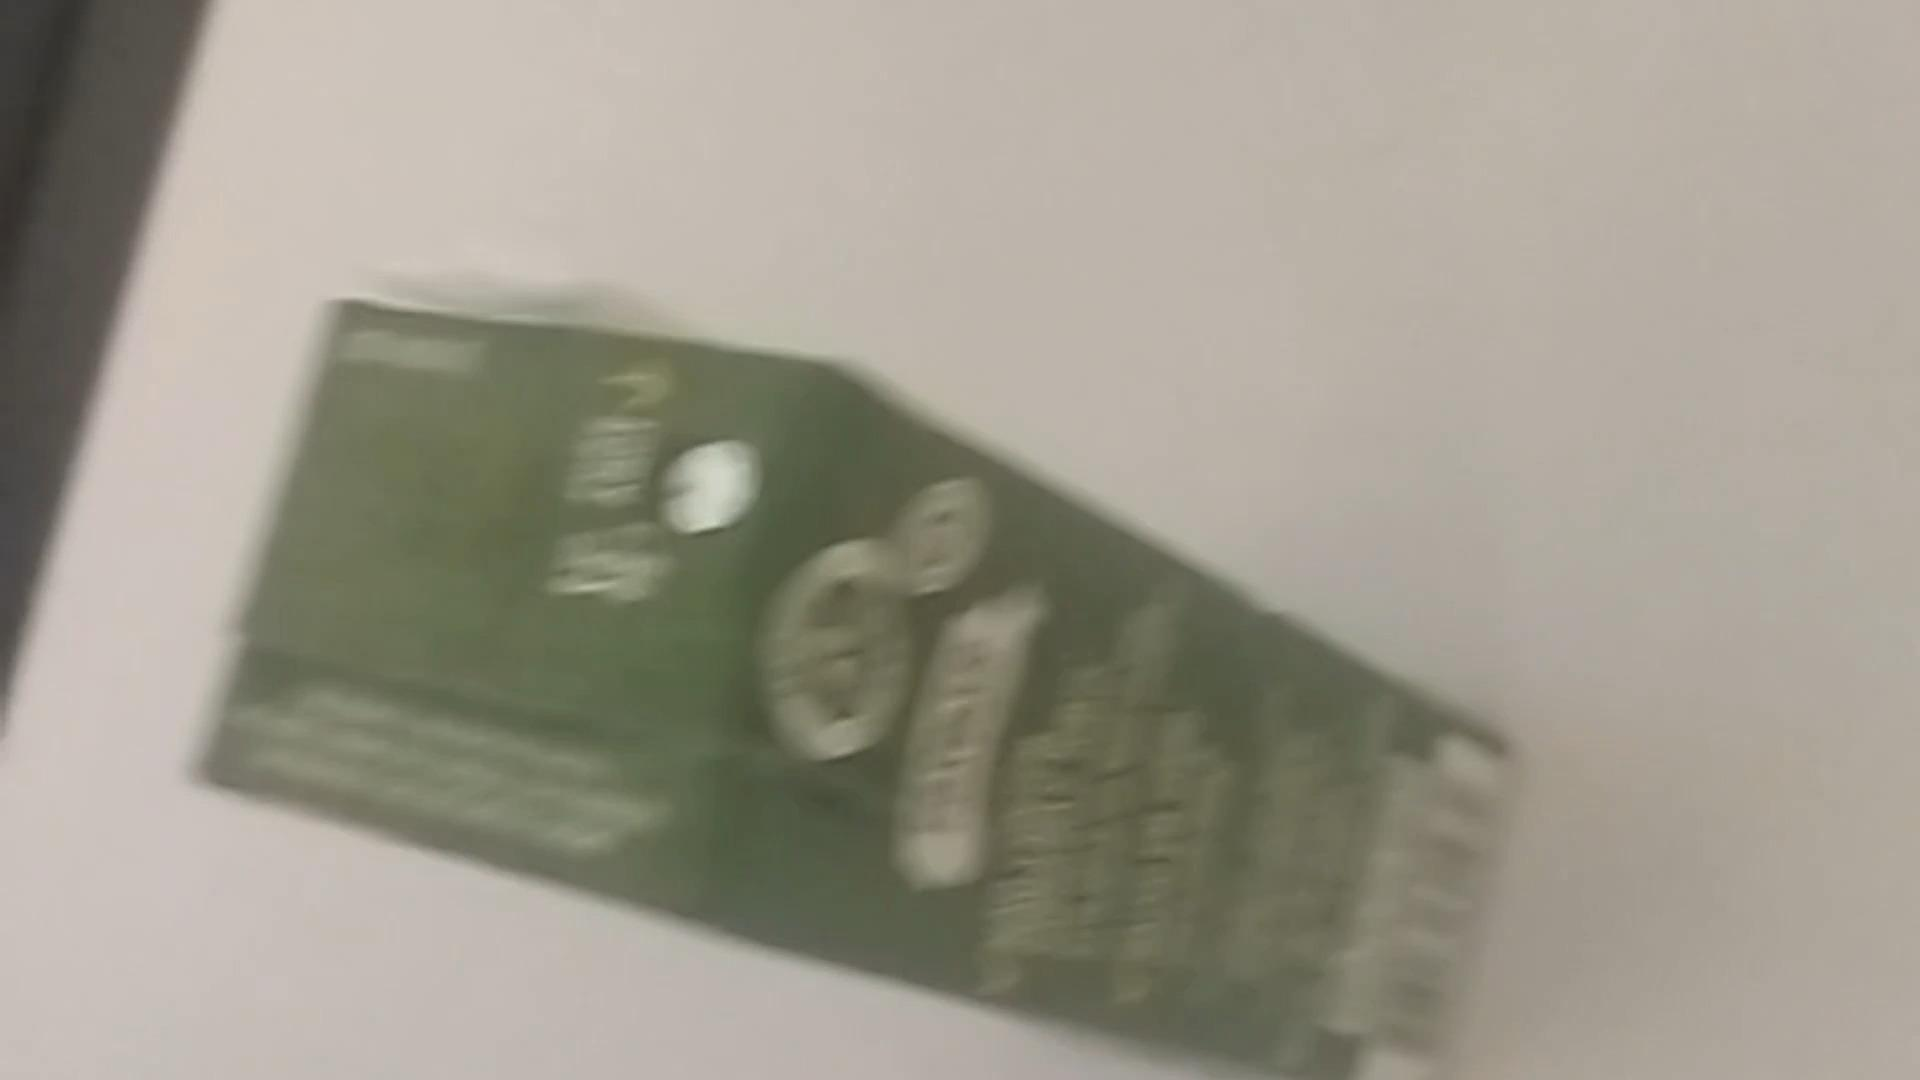coco: (204, 298, 1527, 1080)
